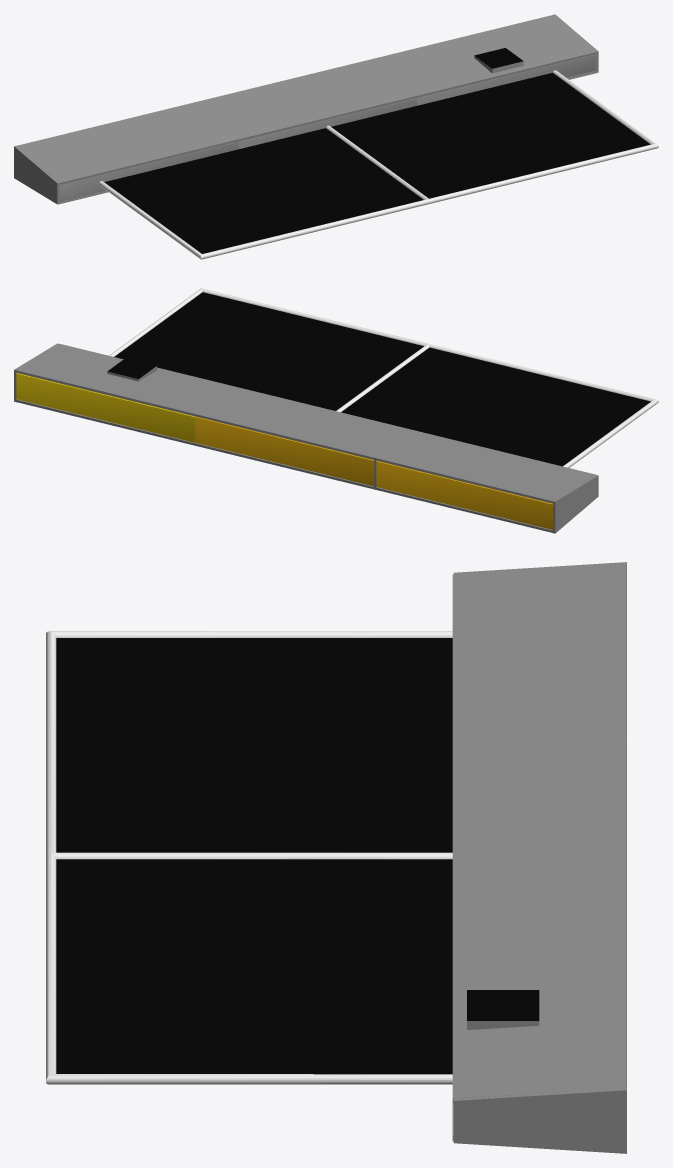
File: 2026_ARC_3v3_large_barrier_right.gltf
The picture shows the model from 3 angles, top to bottom: view 1: azimuth 30°, elevation 25°; view 2: azimuth 150°, elevation 25°; view 3: azimuth 270°, elevation 25°; orthographic projection. The views are drawn at different scales.
Visible parts, largest first — view 1: Tall Barrier, Large Barrier, Surface 840, Surface 936, Surface 776, Large Barrier Pipe, Surface 937, Surface 781, Surface 845, Internal Wall, Surface 740; view 2: Large Barrier, Tall Barrier, Surface 840, Surface 936, Surface 776, Surface 788, Surface 850, Surface 938, Large Barrier Pipe, Internal Wall, Surface 791, Surface 853 (+2 smaller); view 3: Tall Barrier, Large Barrier, Surface 840, Surface 936, Surface 776, Large Barrier Pipe, Internal Wall, Surface 740.
Part boxes in pixels (bbox=[...]): Tall Barrier: bbox=[331, 73, 650, 198]; Large Barrier: bbox=[104, 128, 423, 253]; Surface 840: bbox=[195, 58, 417, 141]; Surface 936: bbox=[16, 103, 238, 184]; Surface 776: bbox=[374, 15, 596, 97]; Large Barrier Pipe: bbox=[99, 70, 658, 259]; Surface 937: bbox=[59, 142, 238, 201]; Surface 781: bbox=[417, 54, 596, 105]; Surface 845: bbox=[238, 98, 417, 148]; Internal Wall: bbox=[14, 146, 59, 204]; Surface 740: bbox=[474, 48, 523, 68]; Large Barrier: bbox=[341, 347, 650, 466]; Tall Barrier: bbox=[114, 292, 423, 410]; Surface 840: bbox=[195, 387, 417, 459]; Surface 936: bbox=[376, 431, 596, 503]; Surface 776: bbox=[16, 344, 238, 416]; Surface 788: bbox=[16, 373, 195, 442]; Surface 850: bbox=[195, 416, 373, 486]; Surface 938: bbox=[374, 461, 552, 529]; Large Barrier Pipe: bbox=[109, 288, 658, 467]; Internal Wall: bbox=[553, 475, 598, 533]; Surface 791: bbox=[16, 399, 195, 445]; Surface 853: bbox=[195, 443, 373, 489]; Tall Barrier: bbox=[56, 859, 452, 1074]; Large Barrier: bbox=[56, 638, 452, 852]; Surface 840: bbox=[452, 739, 626, 923]; Surface 936: bbox=[452, 564, 626, 749]; Surface 776: bbox=[452, 913, 626, 1103]; Large Barrier Pipe: bbox=[46, 631, 452, 1084]; Internal Wall: bbox=[453, 1088, 626, 1153]; Surface 740: bbox=[467, 990, 539, 1020].
Size of the model in its own units: 3.03 by 0.1701 by 1.41.
